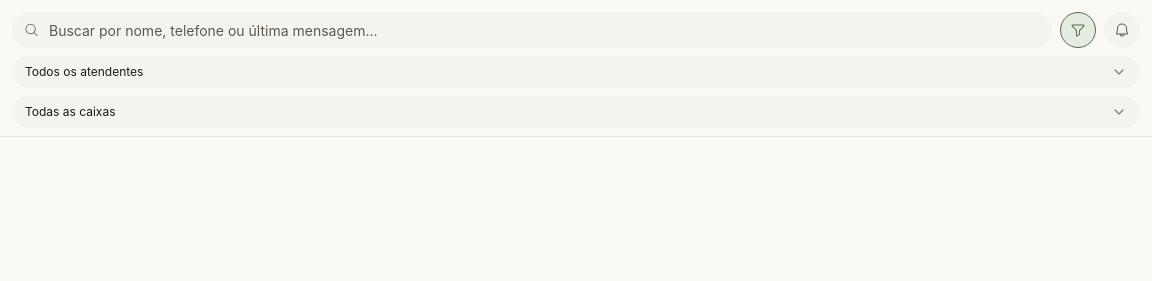
Test: o seletor de ATENDENTE › ⭐ oferece Eu, Sem atendente e os colegas — quem saiu continua, marcado
This screenshot has width=1152, height=281.
Click the dropdown named "Filtrar por atendente": (84, 72) [12,56,1140,88]
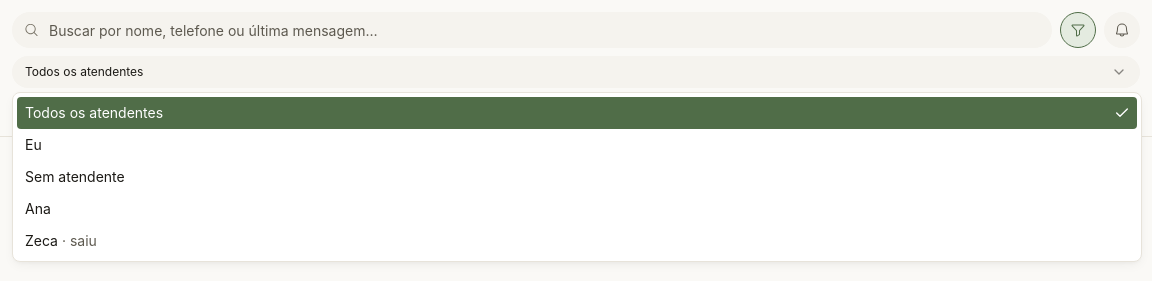
Check: the text "Eu" is shown, box [25,135,42,155]
Check: the text "Sem atendente" is shown, box [25,167,125,187]
Check: the text "Ana" is shown, box [25,199,51,219]
